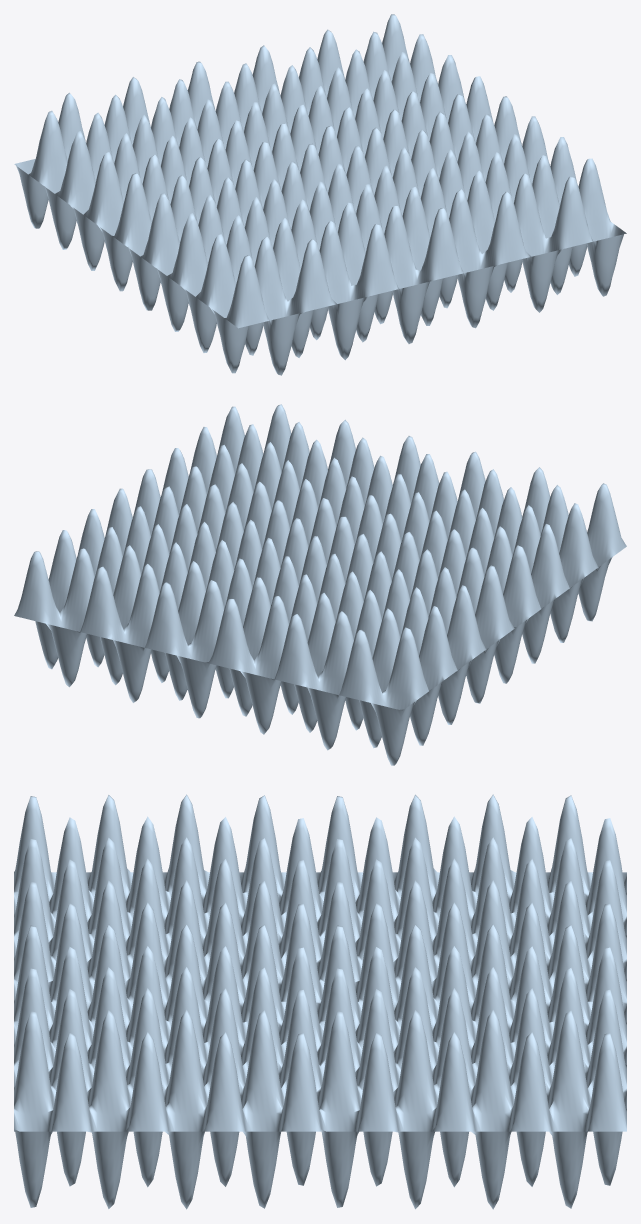
Rendered from ex_standing_wave.glb.
3 views of the same model, one above another, from view 1: azimuth 30°, elevation 25°; view 2: azimuth 150°, elevation 25°; view 3: azimuth 270°, elevation 25° (orthographic). The views are drawn at different scales.
Visible parts, largest first — view 1: StandingWave; view 2: StandingWave; view 3: StandingWave.
Boxes of the visible parts, left/top/right/bottom form: StandingWave: left=14, top=14, right=626, bottom=375; StandingWave: left=14, top=404, right=626, bottom=765; StandingWave: left=14, top=794, right=626, bottom=1209.
Size of the model in its own units: 5.28 by 1.7 by 5.28.
